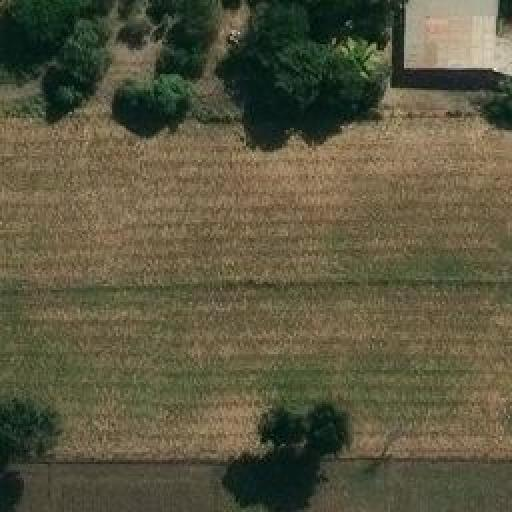manzanas: (396, 0, 510, 88)
